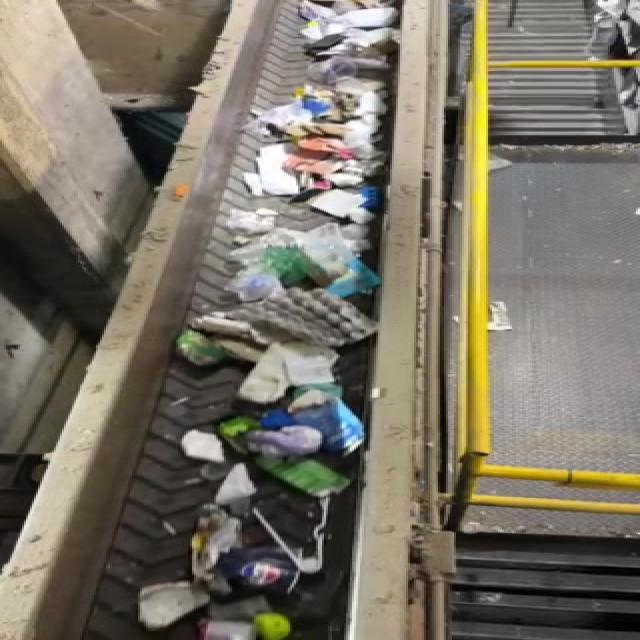metal: (185, 549, 316, 595)
paper: (132, 582, 213, 630), (208, 458, 262, 514), (172, 432, 232, 468)
pp: (288, 388, 379, 460), (186, 508, 232, 571)
